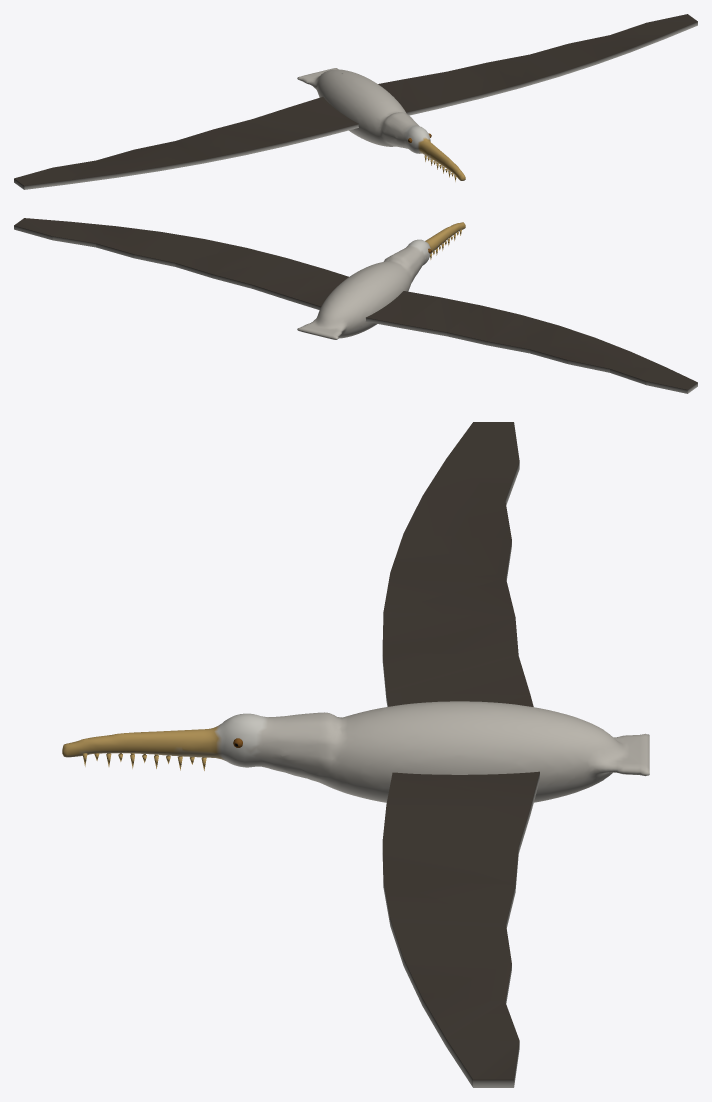
Rendered from DasornisEmuinus.fbx.
The picture shows the model from 3 angles, top to bottom: view 1: azimuth 30°, elevation 25°; view 2: azimuth 150°, elevation 25°; view 3: azimuth 270°, elevation 25°; orthographic projection. The views are drawn at different scales.
Visible parts, largest first — view 1: DasornisEmuinus; view 2: DasornisEmuinus; view 3: DasornisEmuinus.
Part boxes in pixels (x1=…): DasornisEmuinus: x1=14, y1=14, x2=697, y2=189; DasornisEmuinus: x1=14, y1=218, x2=697, y2=393; DasornisEmuinus: x1=62, y1=422, x2=649, y2=1087.
Size of the model in its own units: 3.8 by 0.2583 by 1.44.
